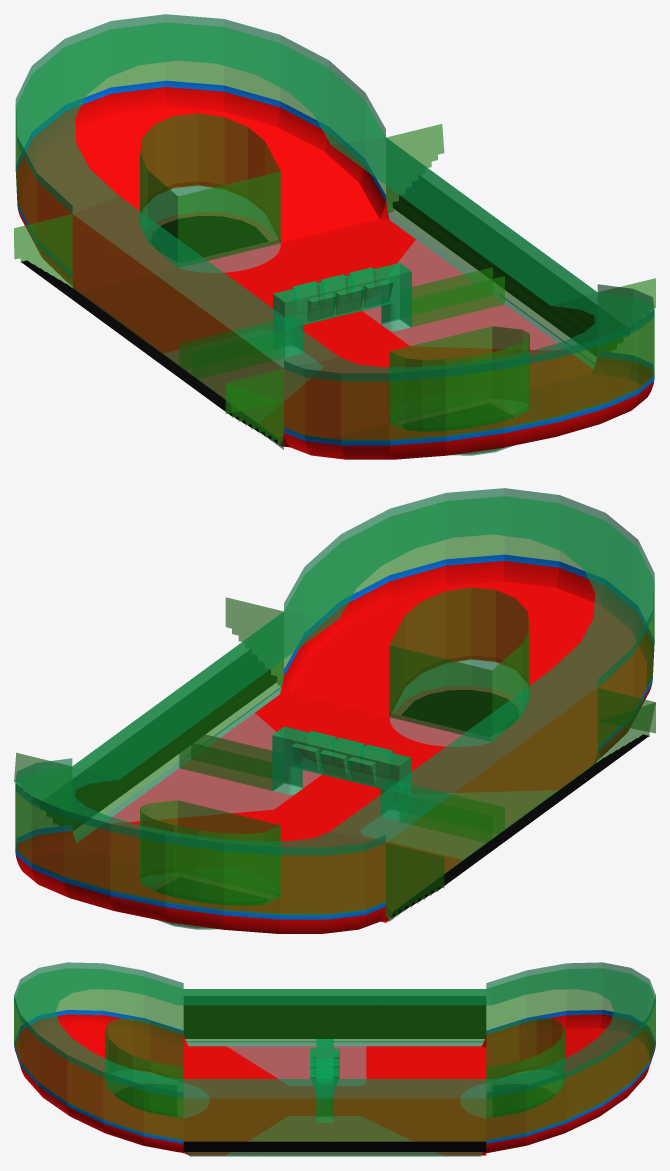
Rendered from course.obj.
3 views of the same model, one above another, from view 1: azimuth 30°, elevation 25°; view 2: azimuth 150°, elevation 25°; view 3: azimuth 270°, elevation 25° (orthographic). The views are drawn at different scales.
Visible parts, largest first — view 1: wall_0d_F000d, road_00_F0080, wall_0c_F006c, offroad_03_F0043, fall_10_F00f0, wall_1f_F001f, halfpipe_13_F0013, wall_0c_F004c; view 2: wall_0d_F000d, road_00_F0080, wall_0c_F006c, offroad_03_F0043, fall_10_F00f0, wall_1f_F001f, halfpipe_13_F0013, wall_0c_F004c; view 3: wall_0d_F000d, road_00_F0080, wall_0c_F006c, fall_10_F00f0, offroad_03_F0043, halfpipe_13_F0013, wall_1f_F001f, wall_0c_F004c.
Part boxes in pixels (box(x1,y1,x2,y2)): wall_0d_F000d: box(14, 22, 655, 444); road_00_F0080: box(16, 87, 653, 459); wall_0c_F006c: box(15, 14, 654, 455); offroad_03_F0043: box(156, 212, 564, 453); fall_10_F00f0: box(21, 195, 594, 443); wall_1f_F001f: box(273, 263, 411, 357); halfpipe_13_F0013: box(16, 80, 654, 445); wall_0c_F004c: box(140, 181, 529, 431); wall_0d_F000d: box(14, 496, 655, 918); road_00_F0080: box(16, 561, 653, 933); wall_0c_F006c: box(15, 488, 654, 929); offroad_03_F0043: box(105, 686, 557, 927); fall_10_F00f0: box(75, 669, 648, 917); wall_1f_F001f: box(272, 726, 411, 821); halfpipe_13_F0013: box(15, 554, 654, 919); wall_0c_F004c: box(140, 655, 529, 905); wall_0d_F000d: box(14, 968, 655, 1153); road_00_F0080: box(14, 1014, 655, 1155); wall_0c_F006c: box(14, 962, 655, 1156); fall_10_F00f0: box(183, 1001, 486, 1151); offroad_03_F0043: box(183, 1046, 486, 1155); halfpipe_13_F0013: box(14, 1010, 655, 1143); wall_1f_F001f: box(310, 1039, 339, 1122); wall_0c_F004c: box(105, 1067, 564, 1118).
Size of the model in its own units: 19931 by 6600 by 36000.
